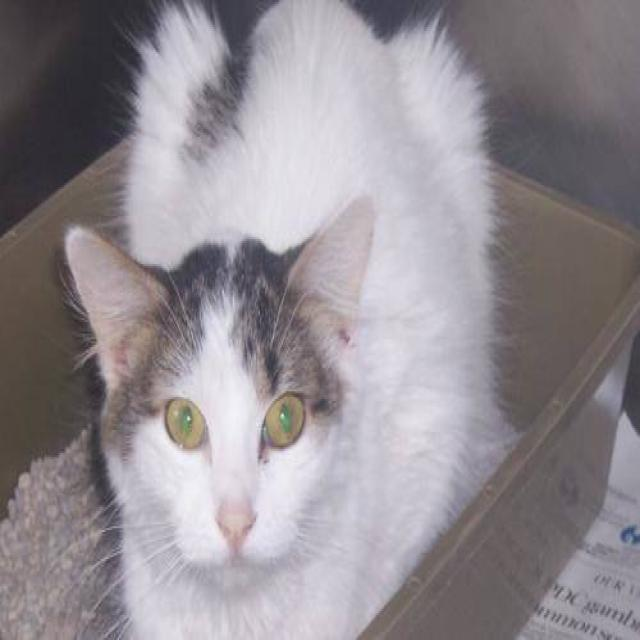cat: (59, 0, 521, 638)
